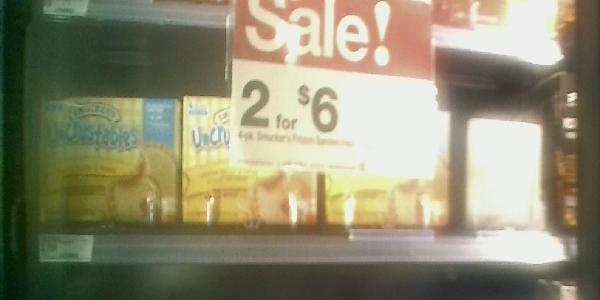icecream: (34, 93, 176, 233), (182, 95, 317, 236), (322, 103, 459, 229)
